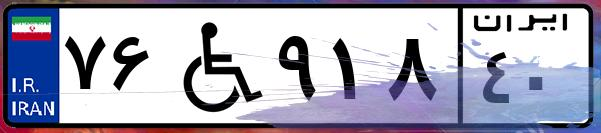0: (525, 38, 570, 115)
1: (330, 28, 385, 110)
4: (475, 38, 525, 113)
6: (110, 28, 158, 98)
7: (57, 26, 110, 100)
8: (385, 28, 445, 110)
9: (270, 28, 330, 110)
ژ (معلولین و جانبازان): (158, 12, 270, 120)
